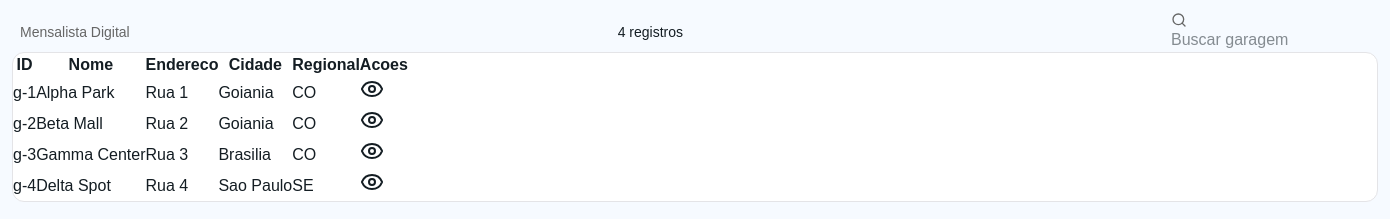
Test: GaragenContainer › should apply search only after debounce of 350ms
In the search field with placeholder "Buscar garagem": point(1274, 40) [1171,28,1378,52], type "Gamma"
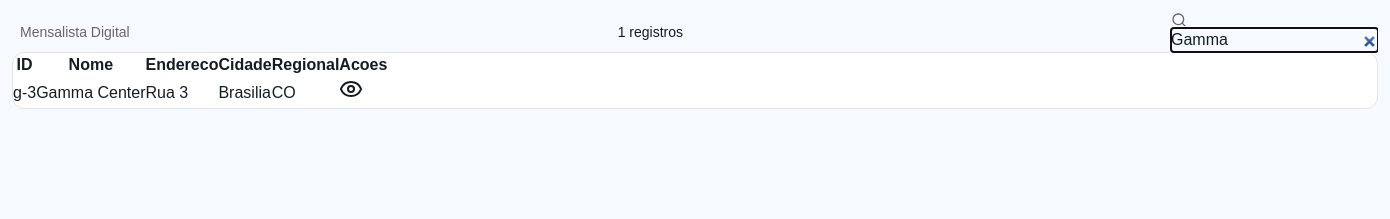
Expected: the text "Gamma Center" is shown, [36,77,146,108]
Expected: the text "1 registros" is shown, [618,24,683,40]
Expected: the text "Alpha Park" is gone
